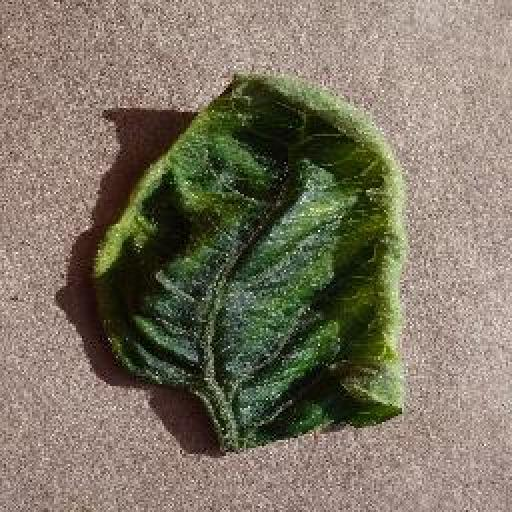Yellow Leaf Curl Virus: (96, 69, 411, 456)
